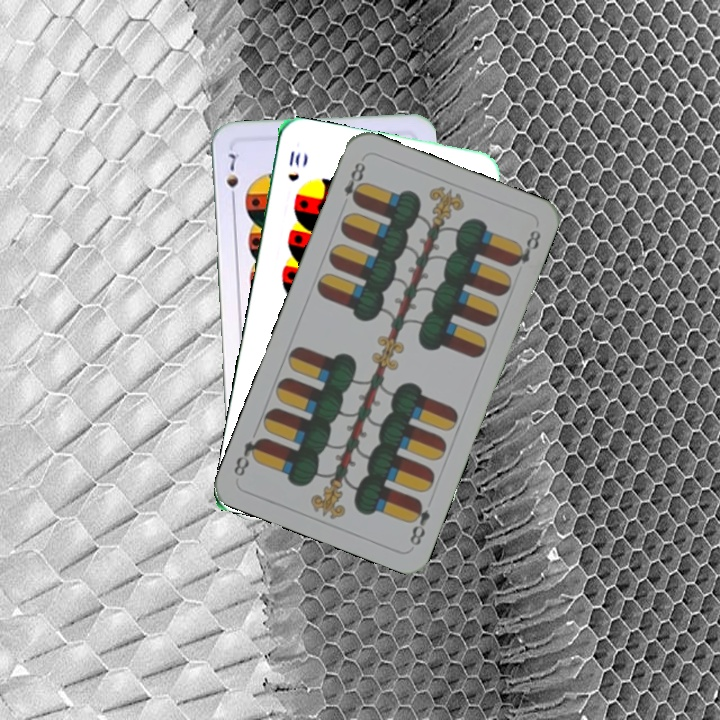E8: (339, 155, 369, 207), (405, 495, 433, 549)
S10: (284, 146, 303, 184)
S7: (222, 149, 242, 205)
